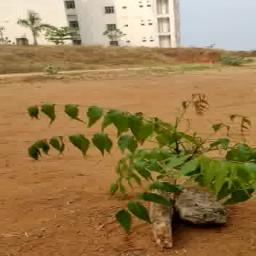Azadiractha Indica: (26, 98, 256, 196), (226, 160, 256, 198), (118, 149, 193, 162), (147, 118, 181, 145), (107, 163, 157, 179), (127, 199, 154, 228), (129, 113, 154, 144), (226, 112, 255, 136), (208, 158, 228, 192), (187, 132, 211, 159), (213, 122, 234, 152), (89, 132, 115, 156), (184, 93, 211, 116), (229, 142, 255, 164), (110, 135, 138, 155), (99, 106, 120, 131), (66, 132, 92, 152), (45, 136, 68, 156), (118, 210, 135, 234), (152, 182, 184, 194), (39, 102, 60, 120), (20, 146, 45, 161), (140, 193, 173, 204), (88, 106, 106, 125), (62, 102, 79, 121), (116, 111, 128, 137), (198, 154, 211, 175), (39, 140, 56, 156), (110, 182, 137, 192), (188, 156, 202, 175), (27, 104, 37, 119)
